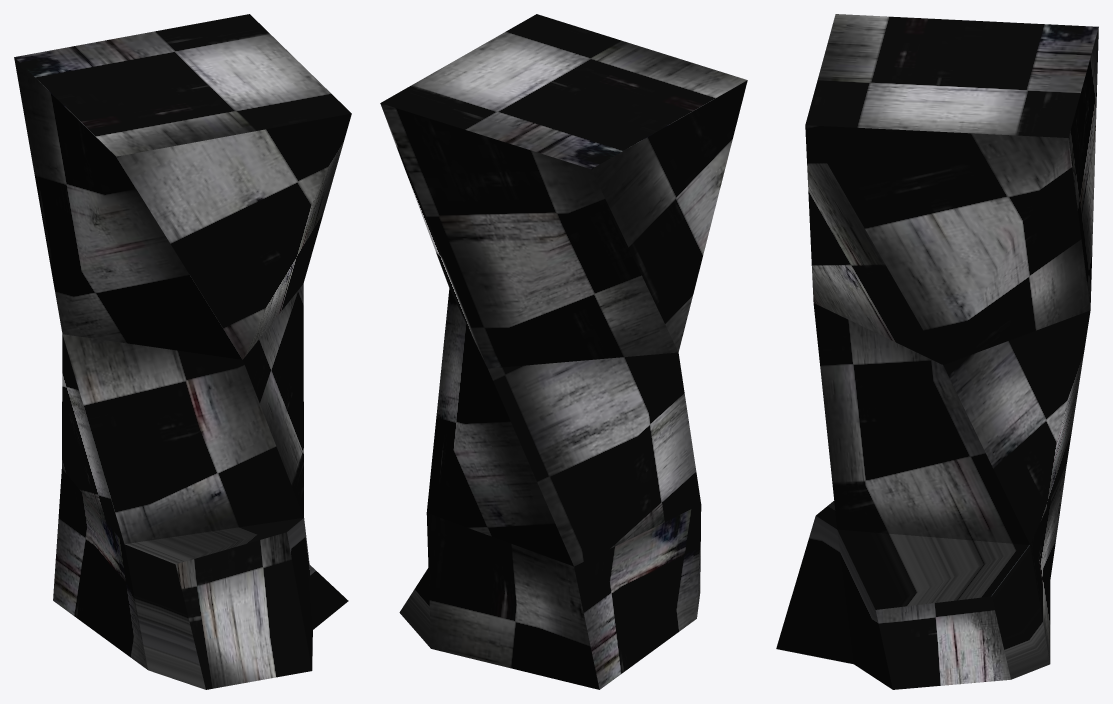
File: R2_Corner.obj
The picture shows the model from 3 angles, left to right: view 1: azimuth 30°, elevation 25°; view 2: azimuth 150°, elevation 25°; view 3: azimuth 270°, elevation 25°; orthographic projection. The views are drawn at different scales.
Visible parts, largest first — view 1: Cube.001_Cube.002; view 2: Cube.001_Cube.002; view 3: Cube.001_Cube.002.
Part boxes in pixels (x1,y1,x2,y2): Cube.001_Cube.002: (14,14,351,689); Cube.001_Cube.002: (380,14,747,689); Cube.001_Cube.002: (776,14,1098,689).
Bounding box in the file's own units: 3.16 × 6.19 × 3.29.
Materials: 1 (1 with a texture image).
